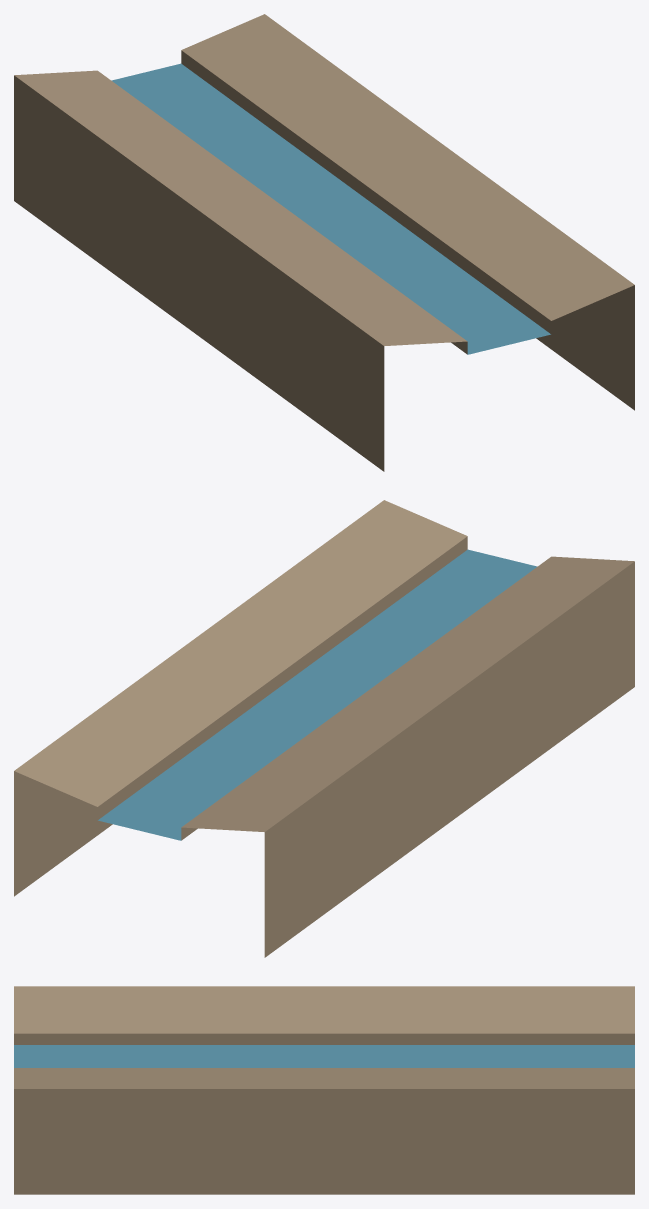
Rendered from ObjS_Gutter.fbx.
3 views of the same model, one above another, from view 1: azimuth 30°, elevation 25°; view 2: azimuth 150°, elevation 25°; view 3: azimuth 270°, elevation 25° (orthographic). The views are drawn at different scales.
Visible parts, largest first — view 1: gutter; view 2: gutter; view 3: gutter.
Part boxes in pixels (bbox=[...]): gutter: bbox=[14, 14, 634, 471]; gutter: bbox=[14, 500, 634, 957]; gutter: bbox=[14, 986, 634, 1194].
Size of the model in its own units: 39.12 by 18.75 by 100.
